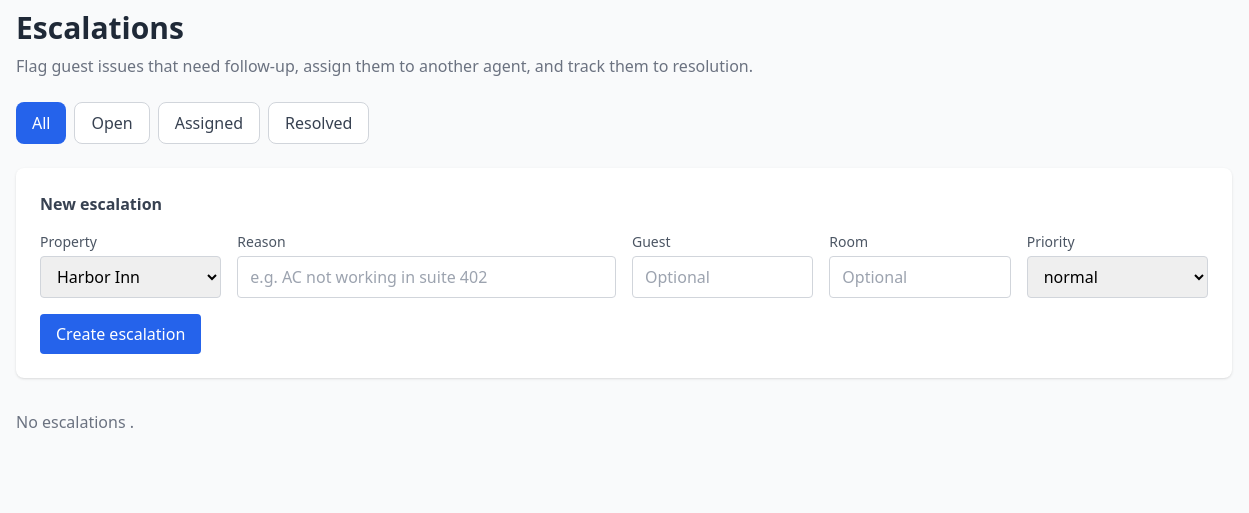
server validation messages › shows the server message when an escalation cannot be created
Type "Broken lock" into the field with placeholder "e.g. AC not working in suite 402" at (427, 277), box [237,256,616,298]
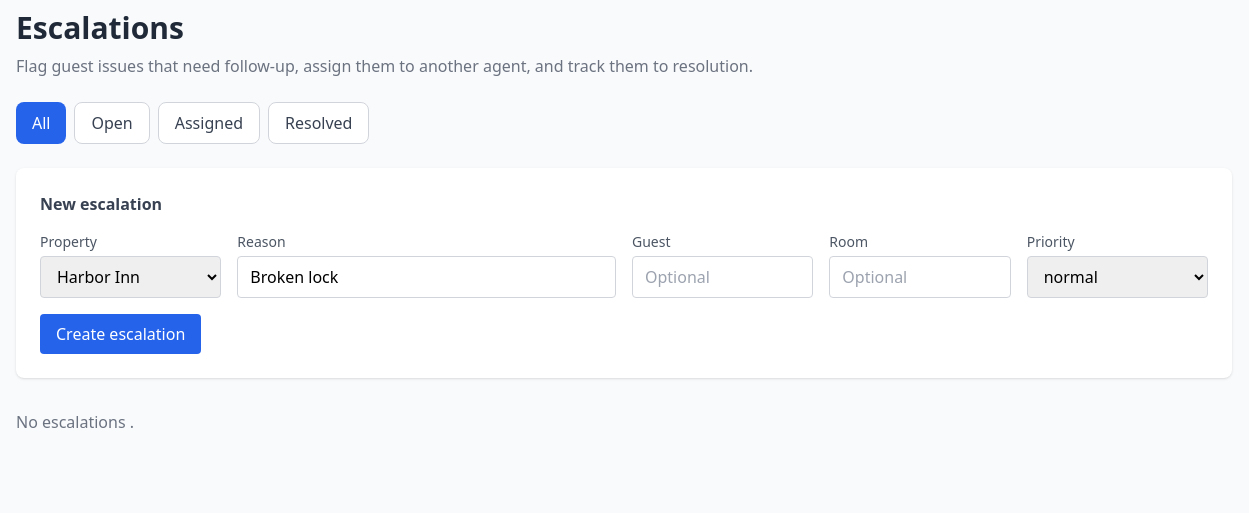
Click the button "Create escalation" at (121, 334), box [40,314,201,354]
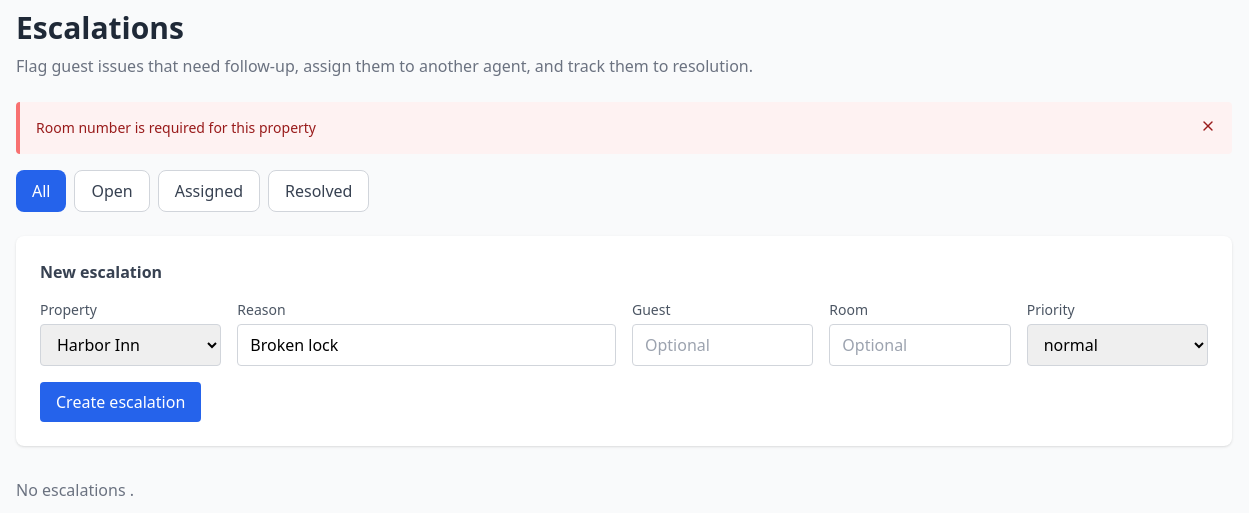
Result: the text "Room number is required for this property" is shown at [36,118,316,138]
